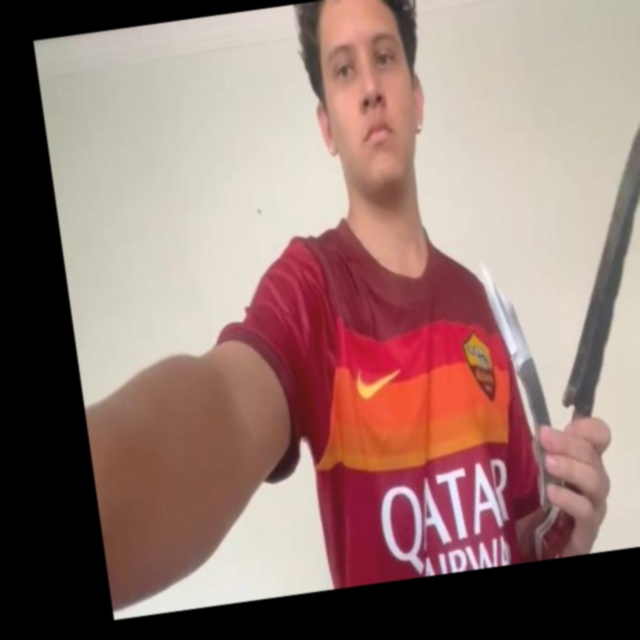Sharp-Object: (523, 99, 640, 409), (478, 257, 537, 375)
